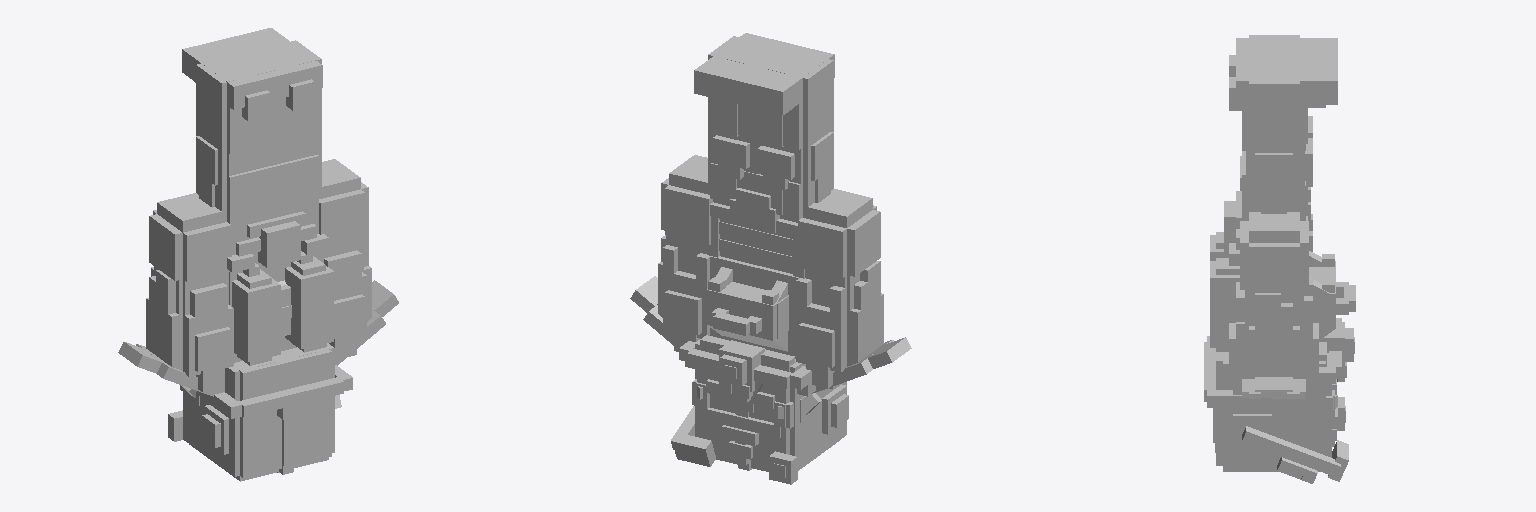
The model's file is t45_armor.obj.
3 renders of one model, left to right at view 1: azimuth 30°, elevation 25°; view 2: azimuth 150°, elevation 25°; view 3: azimuth 270°, elevation 25°, orthographic.
Parts seen in each view (by area): view 1: Head, RightArm, Body, LeftArm, RightLeg, RightBoot, LeftLeg, LeftBoot; view 2: Head, RightArm, Body, LeftArm, RightLeg, RightBoot, LeftLeg, LeftBoot; view 3: LeftArm, Head, LeftLeg, Body, LeftBoot, RightBoot.
Part boxes in pixels (x1,y1,x2,y2): Head: (168,343,352,481); RightArm: (118,193,233,396); Body: (227,203,333,365); LeftArm: (319,159,398,365); RightLeg: (196,88,274,223); RightBoot: (182,38,277,120); LeftLeg: (273,89,321,212); LeftBoot: (227,28,322,110); Head: (671,335,848,484); RightArm: (796,189,911,393); Body: (707,188,804,358); LeftArm: (630,155,712,351); RightLeg: (755,84,833,219); RightBoot: (739,44,834,114); LeftLeg: (708,97,758,202); LeftBoot: (694,33,789,103); LeftArm: (1229,212,1318,398); Head: (1204,318,1354,483); LeftLeg: (1242,105,1312,220); Body: (1210,187,1355,351); LeftBoot: (1229,60,1337,110); RightBoot: (1229,35,1337,76).
Bounding box in the file's own units: 23.57 × 33.73 × 11.9.